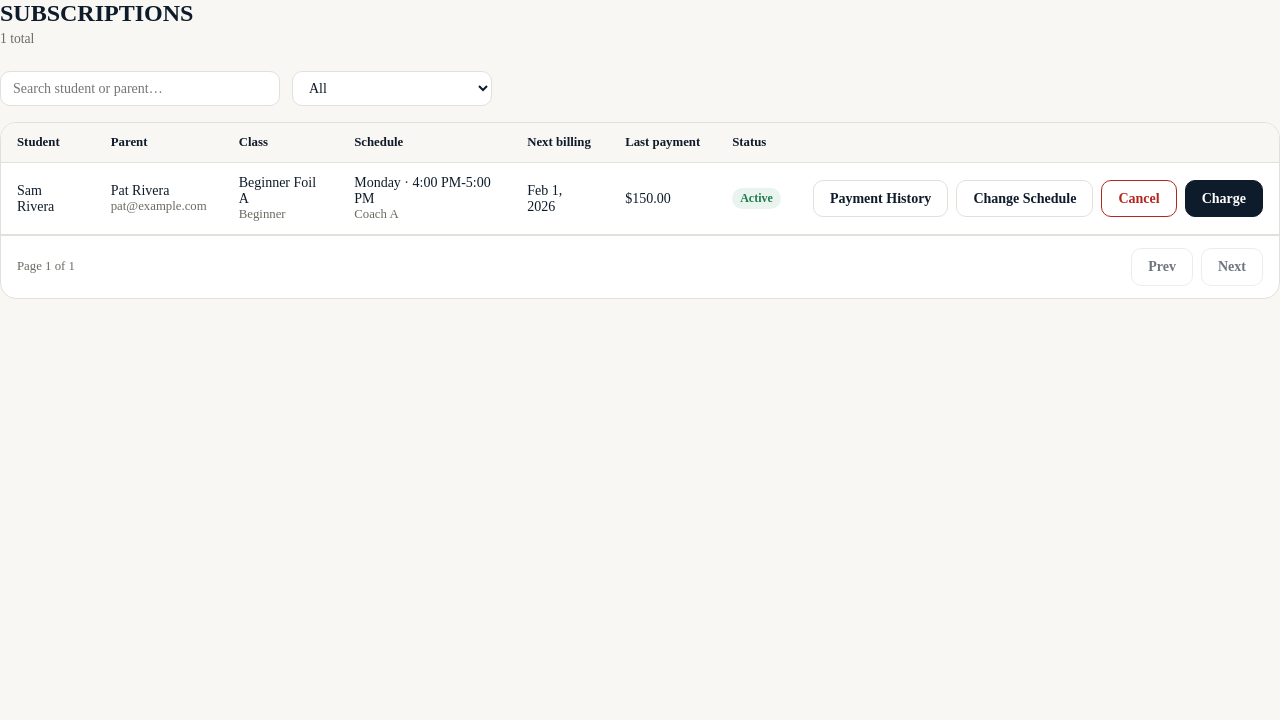
it: AdminSubscriptionsPage › cancel flow: confirm dialog shows the copy, submits, and reloads
Expected: the text "Sam Rivera" is shown, [1,162,95,234]
Click the button "Cancel".
click(1139, 198)  # box [1102,180,1177,217]
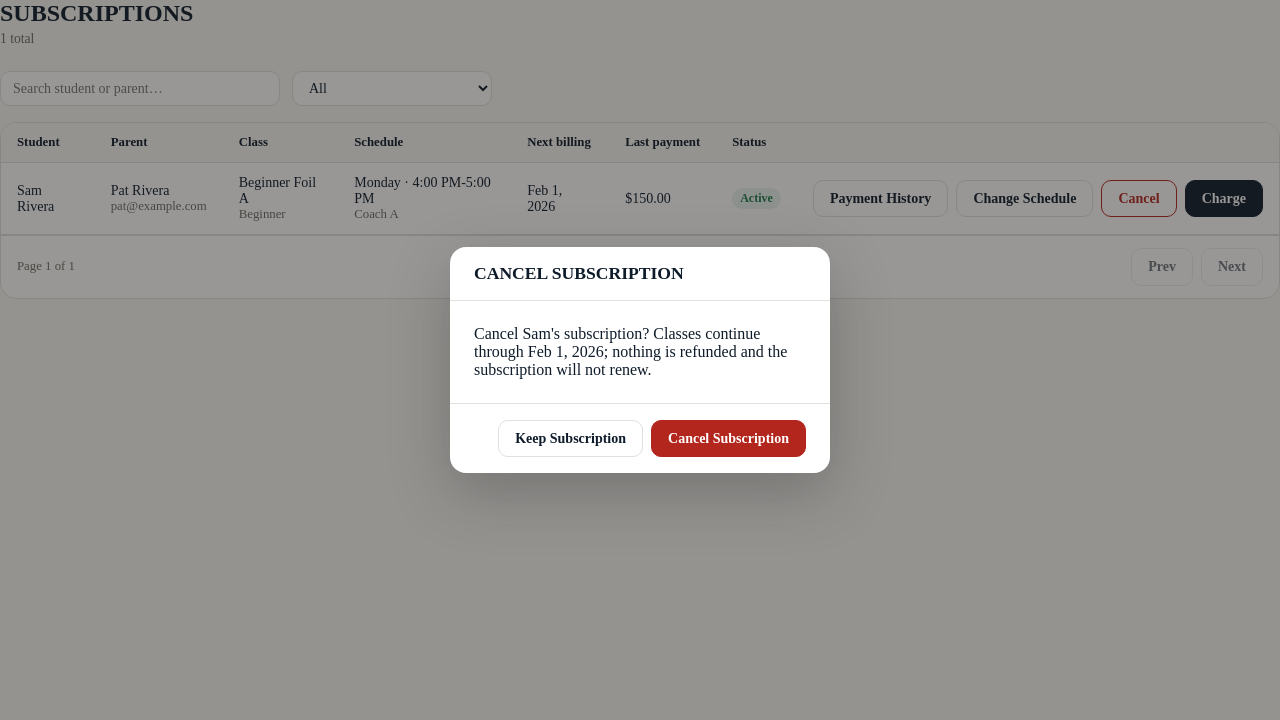
Now the text "nothing is refunded" is shown, box [474,343,787,378]
Click the button "Cancel Subscription".
click(728, 438)  # box [651,420,806,457]
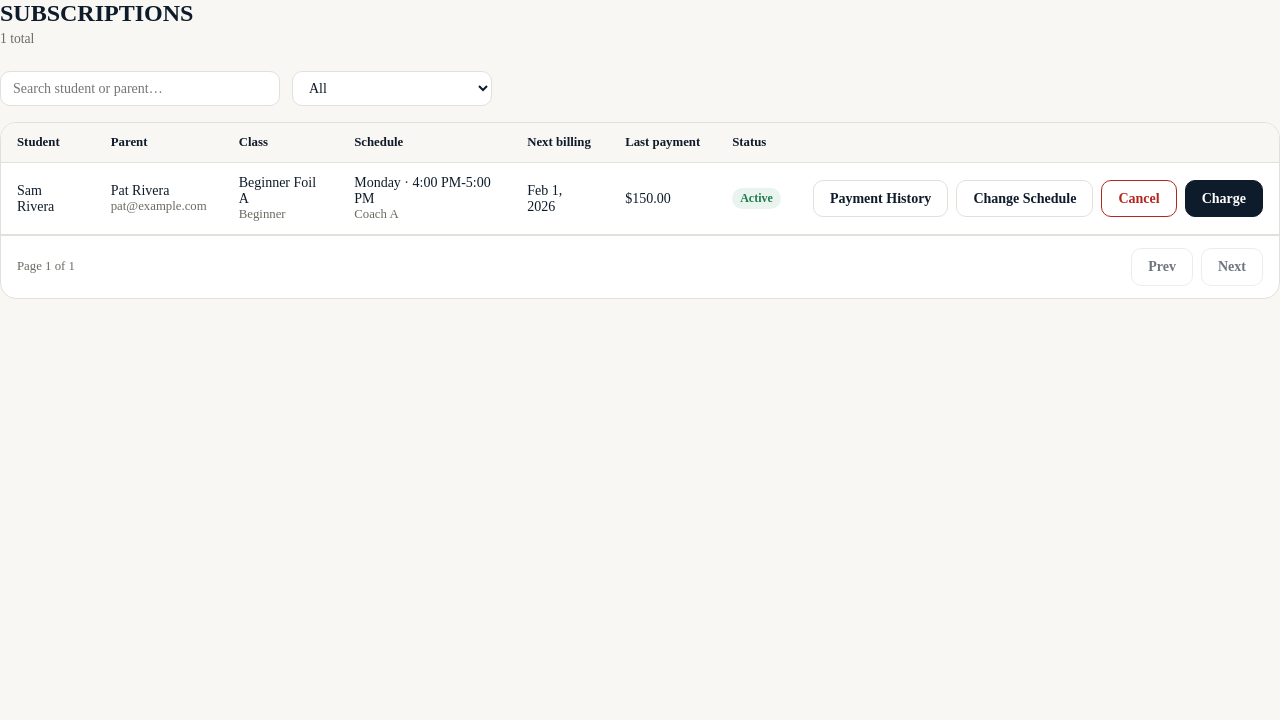
Now the heading "Cancel Subscription" is gone
